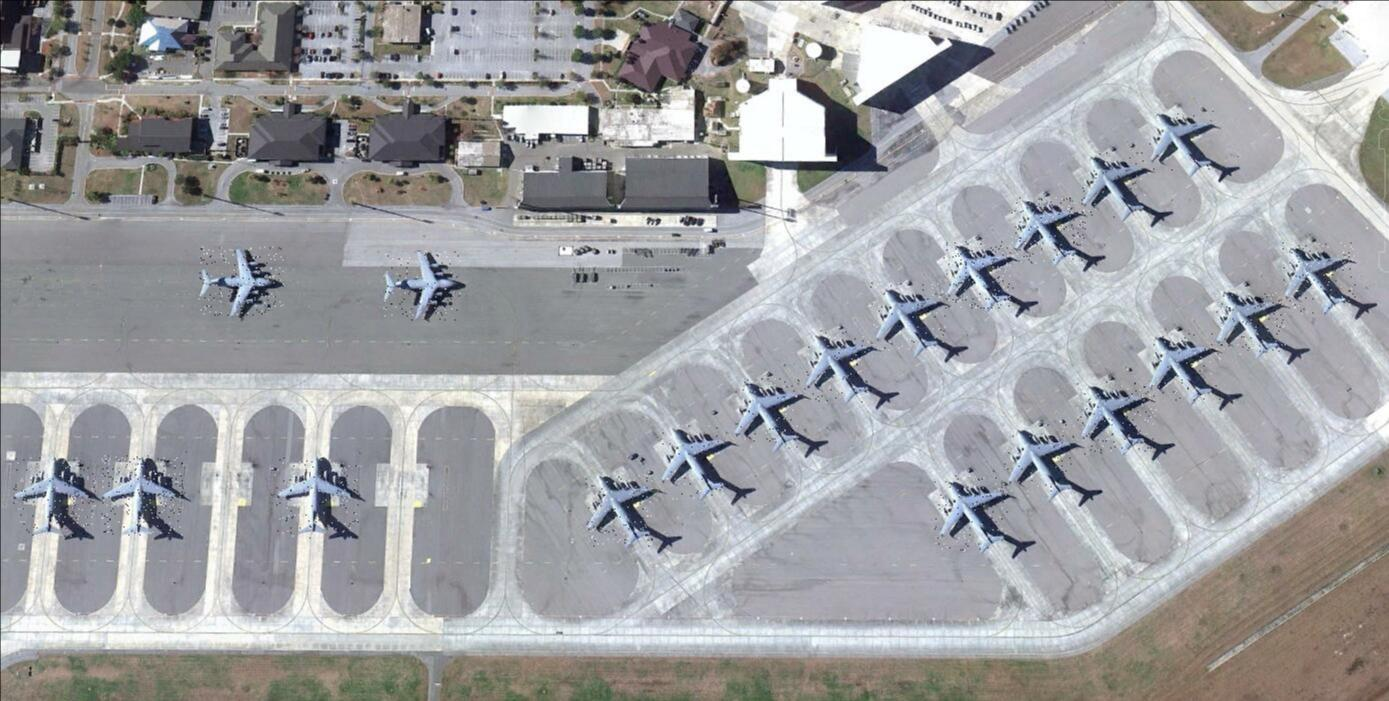A3: (274, 457, 358, 538), (101, 455, 183, 535), (13, 457, 95, 536), (198, 246, 283, 315), (1077, 381, 1156, 454), (383, 249, 461, 321), (934, 475, 1007, 551), (870, 282, 946, 352), (1282, 242, 1355, 314), (1002, 424, 1074, 497), (659, 424, 726, 499), (585, 473, 653, 546), (1011, 197, 1085, 264), (804, 329, 870, 402), (1152, 333, 1220, 403), (943, 241, 1013, 308), (1080, 152, 1147, 220), (734, 378, 799, 448), (1149, 108, 1216, 175), (1216, 291, 1285, 355)
